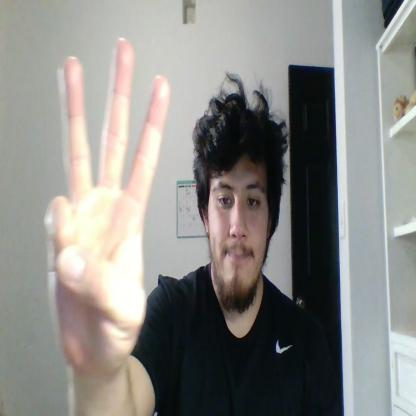W: (44, 37, 169, 382)
